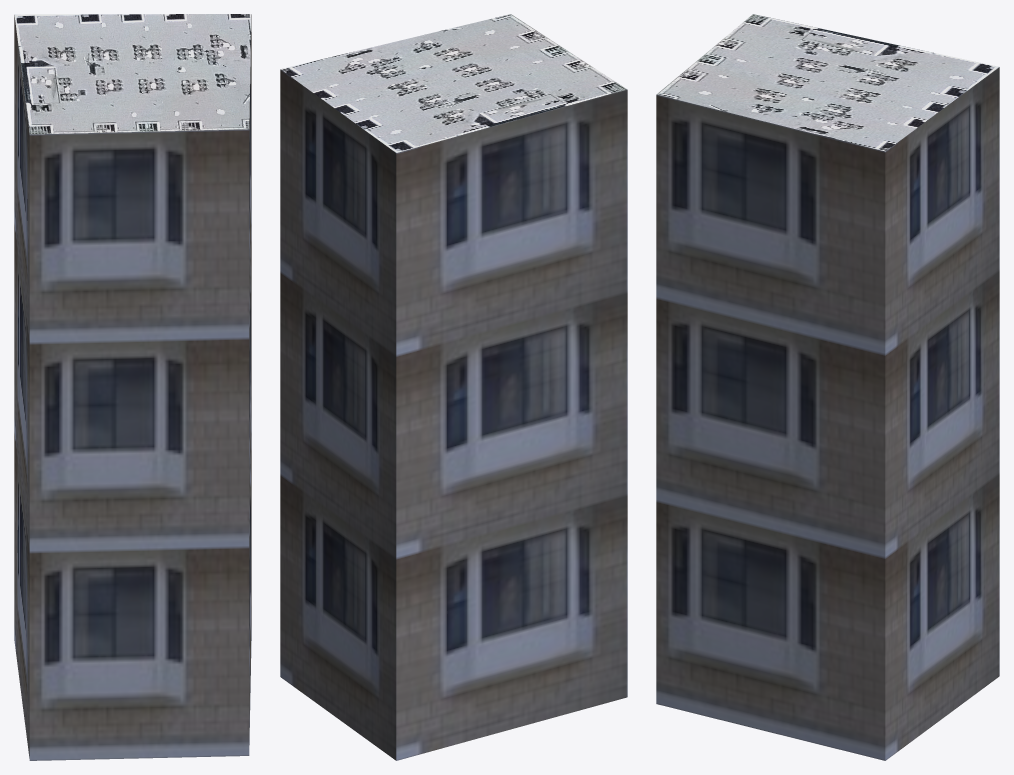
The model's file is ResTex__3658.fbx.
3 renders of one model, left to right at view 1: azimuth 30°, elevation 25°; view 2: azimuth 150°, elevation 25°; view 3: azimuth 270°, elevation 25°, orthographic. The views are drawn at different scales.
Parts seen in each view (by area): view 1: CityEngineMaterial_3_m, CityEngineMaterial_8_m; view 2: CityEngineMaterial_3_m, CityEngineMaterial_8_m; view 3: CityEngineMaterial_3_m, CityEngineMaterial_8_m.
Part boxes in pixels (x1,y1,x2,y2): CityEngineMaterial_3_m: (14, 15, 251, 760); CityEngineMaterial_8_m: (14, 14, 251, 134); CityEngineMaterial_3_m: (280, 69, 627, 760); CityEngineMaterial_8_m: (280, 14, 627, 152); CityEngineMaterial_3_m: (656, 67, 999, 760); CityEngineMaterial_8_m: (656, 14, 998, 151).
Bounding box in the file's own units: 4.36 × 9 × 4.6.
Materials: 2 (2 with a texture image).
